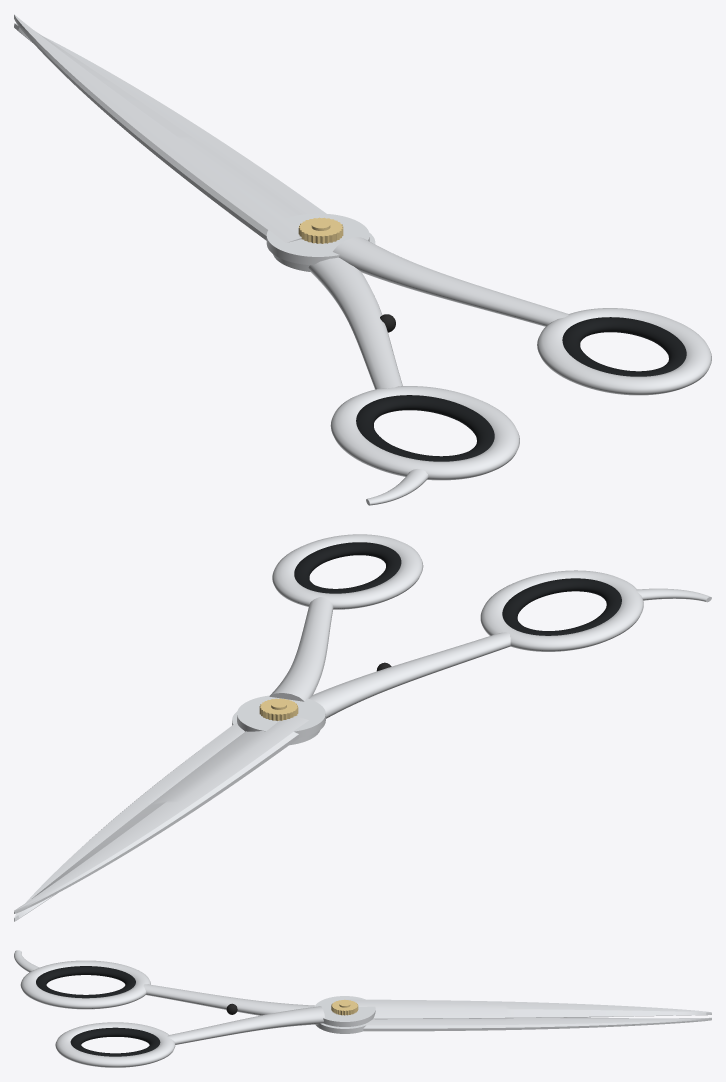
File: scissors.glb
3 renders of one model, top to bottom at view 1: azimuth 30°, elevation 25°; view 2: azimuth 150°, elevation 25°; view 3: azimuth 270°, elevation 25°, orthographic. The views are drawn at different scales.
Visible parts, largest first — view 1: HalfB_blade_b, HalfA_ring_a, HalfB_ring_b, HalfB_shank_b, HalfA_shank_a, HalfA_insert_a, HalfA_blade_a, HalfB_insert_b, HalfB_disc_b, HalfA_tang, HalfB_Cylinder; view 2: HalfB_blade_b, HalfA_ring_a, HalfB_ring_b, HalfA_shank_a, HalfB_shank_b, HalfA_blade_a, HalfA_insert_a, HalfB_insert_b, HalfB_disc_b, HalfA_tang, HalfB_Cylinder; view 3: HalfB_blade_b, HalfA_blade_a, HalfA_ring_a, HalfB_ring_b, HalfB_shank_b, HalfA_shank_a, HalfA_insert_a, HalfB_insert_b, HalfB_disc_b, HalfA_disc_a, HalfB_Cylinder, HalfA_tang.
Part boxes in pixels (x1,y1,x2,y2): HalfB_blade_b: (14, 14, 302, 242); HalfA_ring_a: (330, 386, 519, 480); HalfB_ring_b: (537, 308, 711, 395); HalfB_shank_b: (333, 237, 568, 326); HalfA_shank_a: (308, 257, 402, 389); HalfA_insert_a: (356, 395, 494, 461); HalfA_blade_a: (14, 23, 325, 214); HalfB_insert_b: (562, 317, 686, 376); HalfB_disc_b: (266, 213, 369, 265); HalfA_tang: (366, 469, 428, 505); HalfB_Cylinder: (298, 217, 343, 243); HalfB_blade_b: (14, 716, 308, 913); HalfA_ring_a: (480, 570, 643, 651); HalfB_ring_b: (272, 534, 423, 609); HalfA_shank_a: (309, 632, 510, 718); HalfB_shank_b: (269, 597, 333, 701); HalfA_blade_a: (14, 722, 244, 921); HalfA_insert_a: (502, 578, 621, 635); HalfB_insert_b: (294, 542, 401, 593); HalfB_disc_b: (237, 695, 325, 737); HalfA_tang: (636, 588, 711, 602); HalfB_Cylinder: (259, 698, 298, 720); HalfB_blade_b: (345, 999, 711, 1019); HalfA_blade_a: (362, 1017, 711, 1031); HalfA_ring_a: (20, 960, 150, 1009); HalfB_ring_b: (55, 1022, 175, 1067); HalfB_shank_b: (167, 1006, 324, 1044); HalfA_shank_a: (143, 984, 314, 1015); HalfA_insert_a: (36, 966, 135, 998); HalfB_insert_b: (70, 1027, 160, 1056); HalfB_disc_b: (314, 996, 375, 1026); HalfA_disc_a: (315, 1023, 366, 1033); HalfB_Cylinder: (331, 999, 358, 1015); HalfA_tang: (14, 950, 39, 972).
Bounding box in the file's own units: 4.32 × 0.3438 × 10.65.
